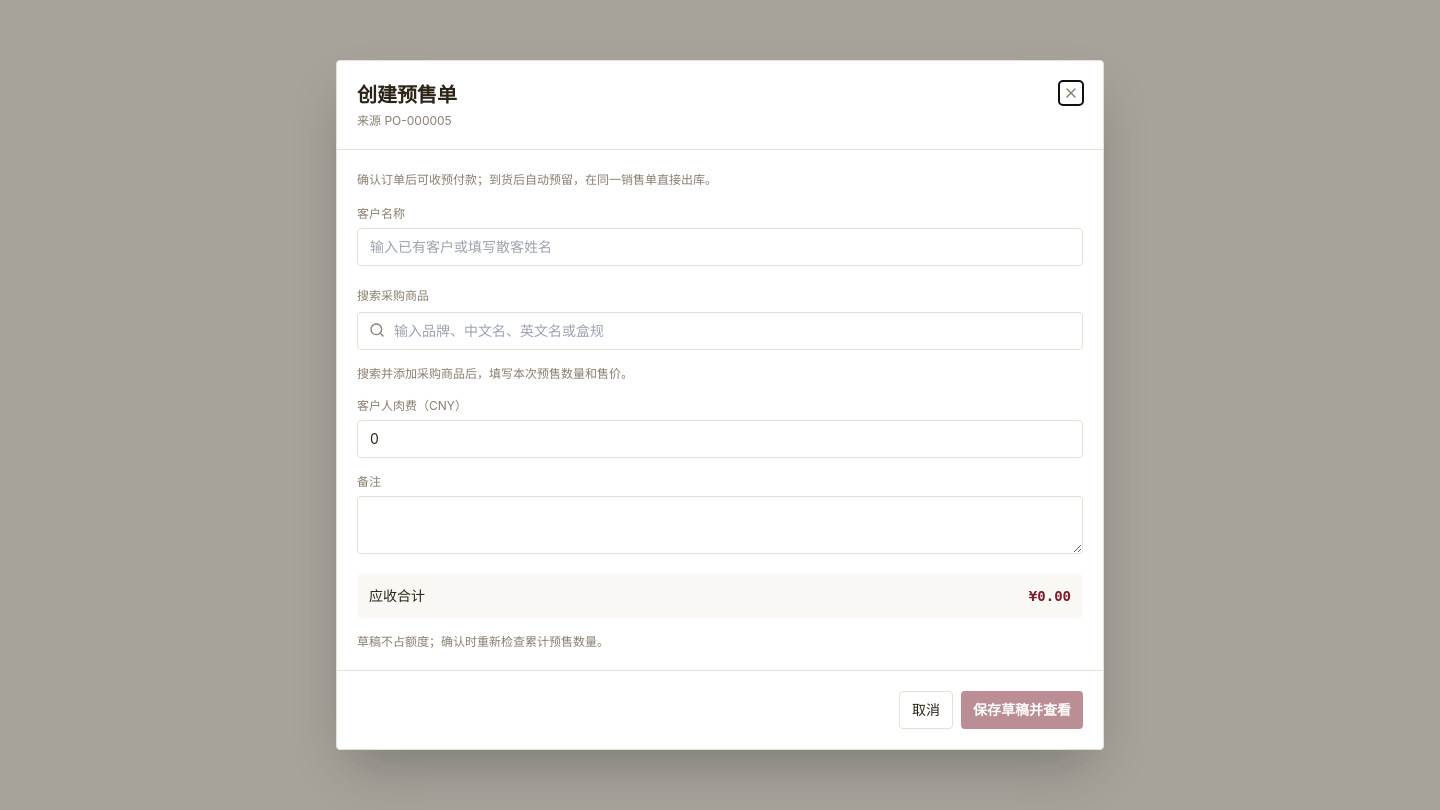
保存失败保留填写内容，重复点击不会并发建单
Focus the dropdown. click: (720,331)
box: [357,312,1083,350]
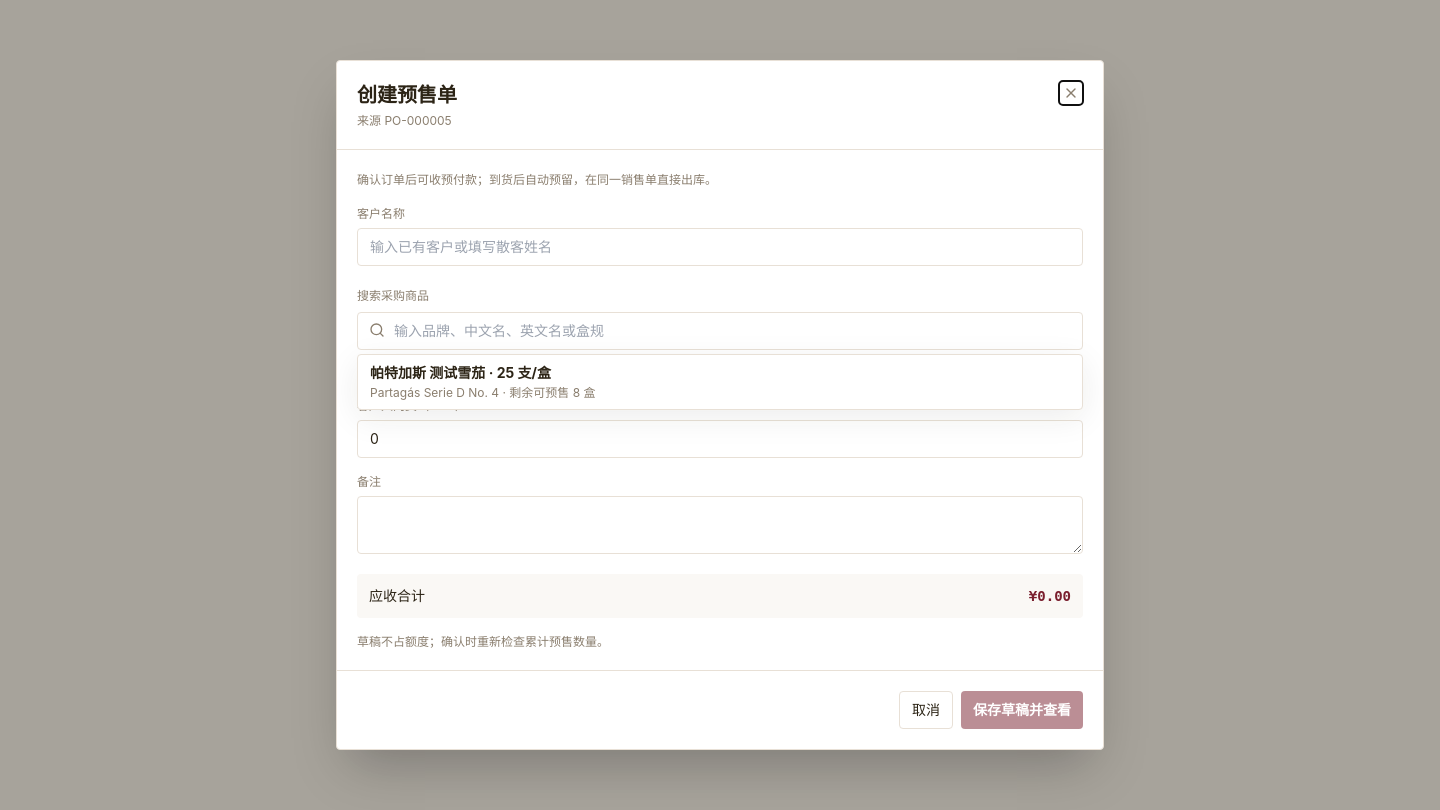
Click the option "帕特加斯 测试雪茄 · 25 支/盒 Partagás Serie D No. 4 · 剩余可预售 8 盒". click: (428,372)
box: [358,355,1082,409]
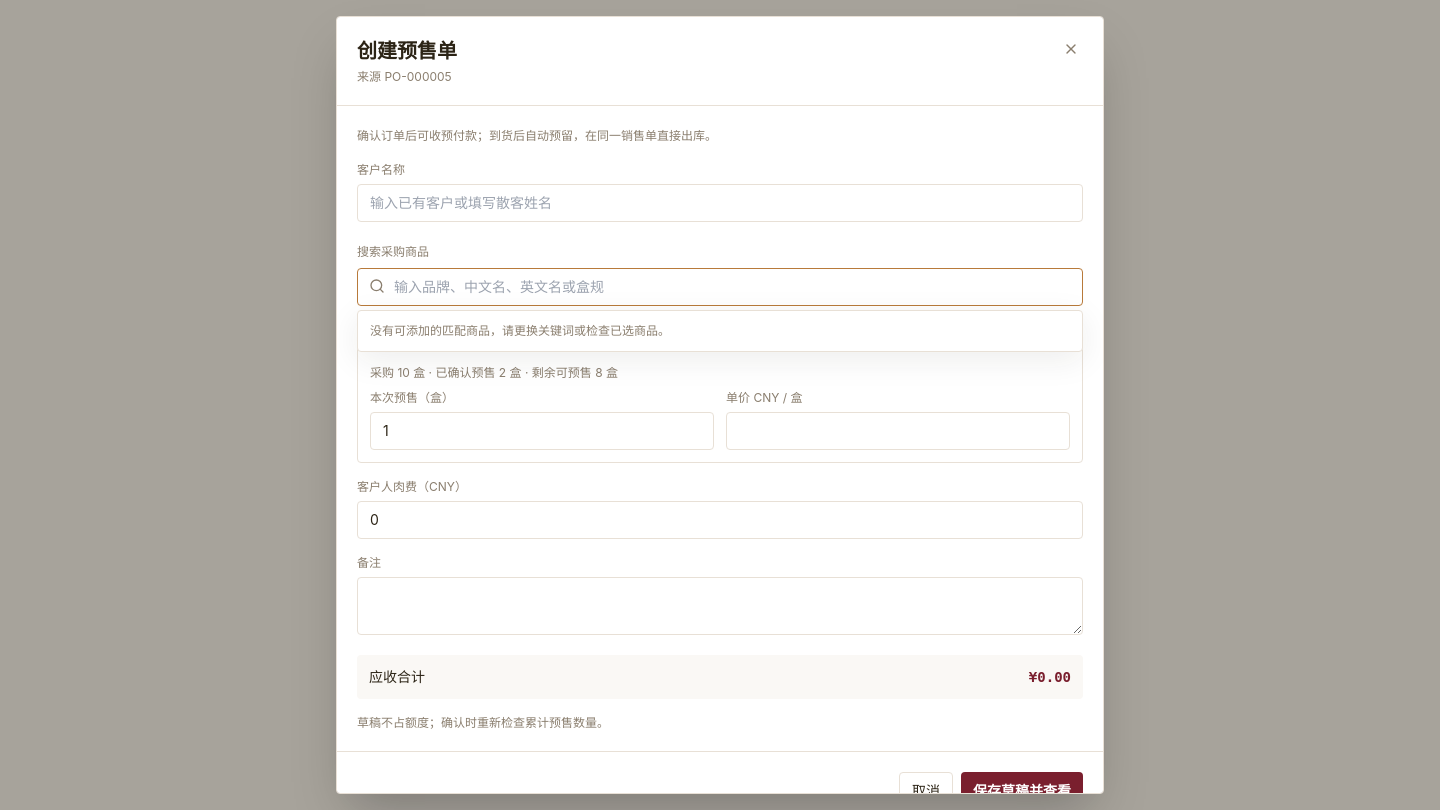
Type "预售客户" into the field labelled "客户名称". click: (720,202)
box: [357,184,1083,222]
Replace the text in the number field named "测试雪茄 25 数量" with "2". click: (542,431)
box: [370,412,714,450]
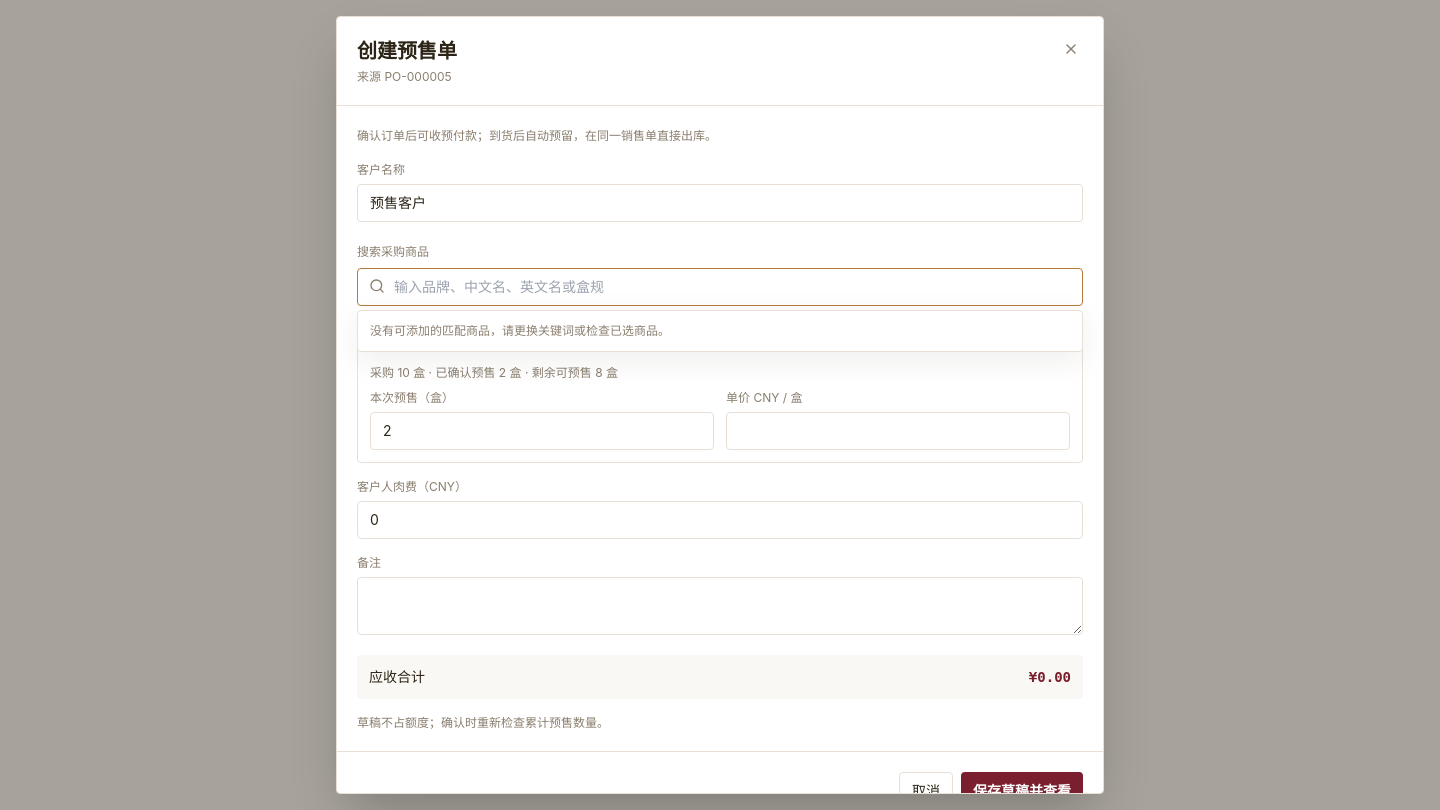
Type "1500" into the number field named "测试雪茄 25 单价". click: (898,431)
box: [726,412,1070,450]
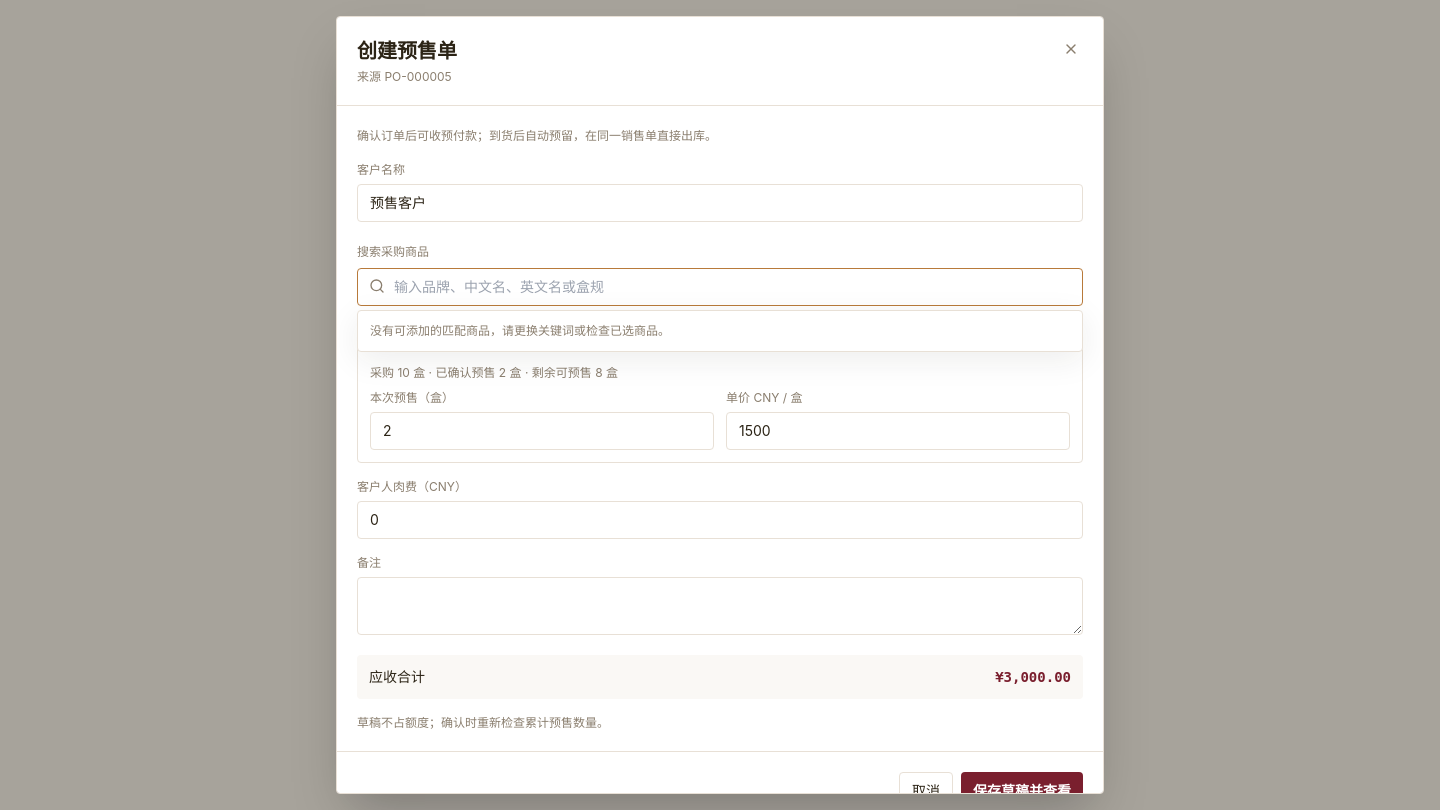
Click the button "保存草稿并查看". click: (1022,791)
box: [961,772,1083,809]
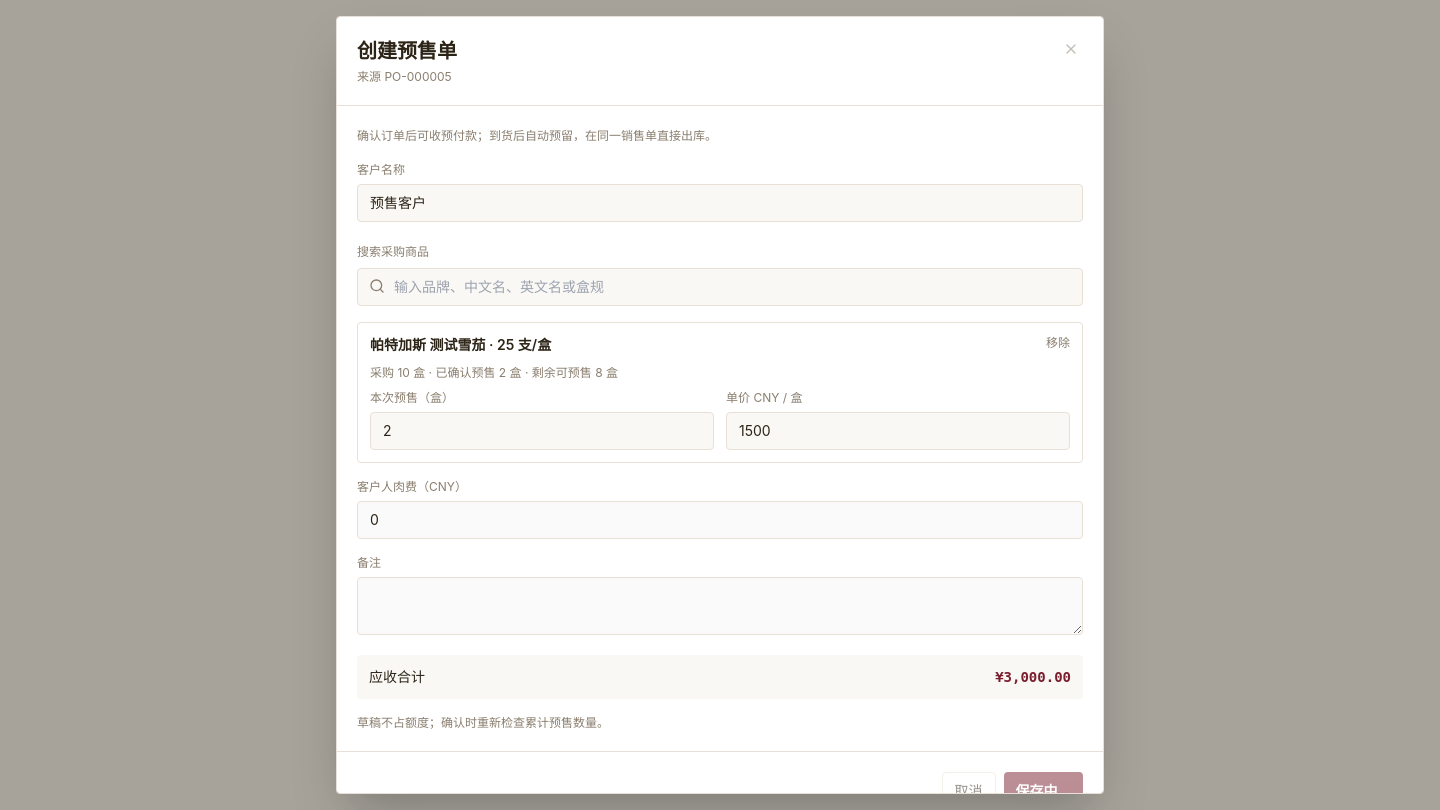
Click the button named "保存草稿并查看". click: (1043,791)
box: [1004,772,1083,809]
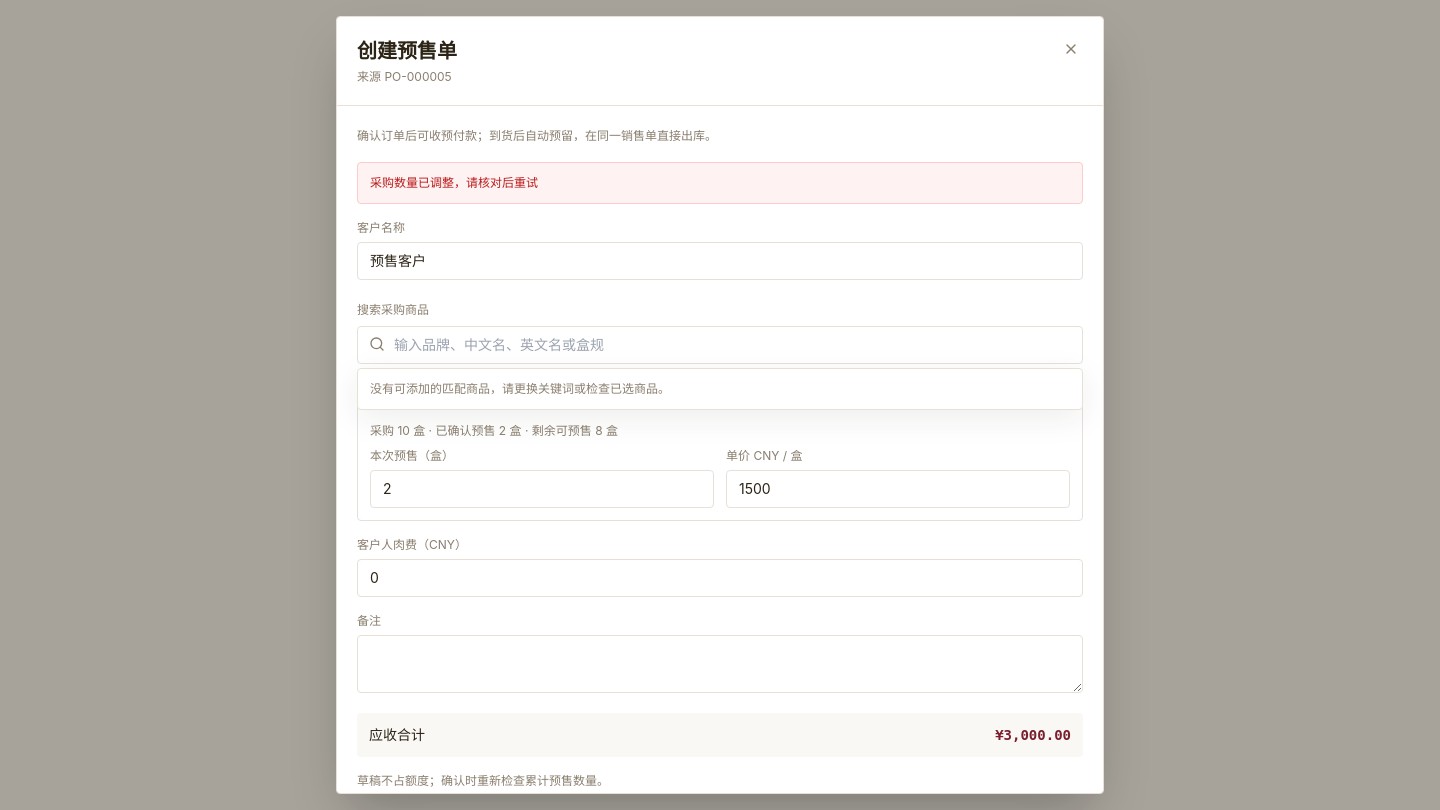
Check: the text "采购数量已调整，请核对后重试" is shown, box [357,162,1083,204]
